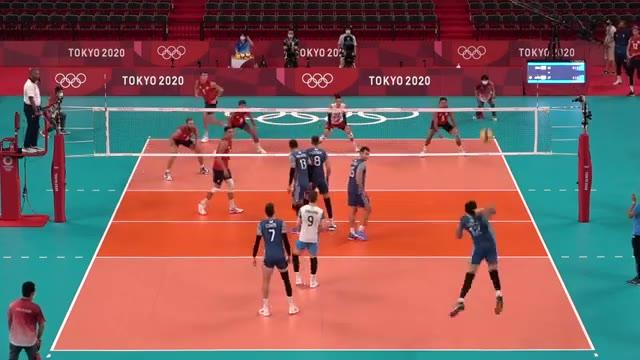ball: (480, 127, 494, 144)
